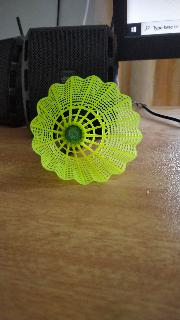shuttlecock: (30, 76, 142, 184)
